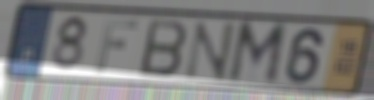6: (284, 25, 326, 86)
8: (48, 15, 88, 74)
B: (137, 17, 190, 79)
F: (93, 17, 142, 75)
M: (224, 20, 290, 88)
N: (181, 20, 239, 83)
